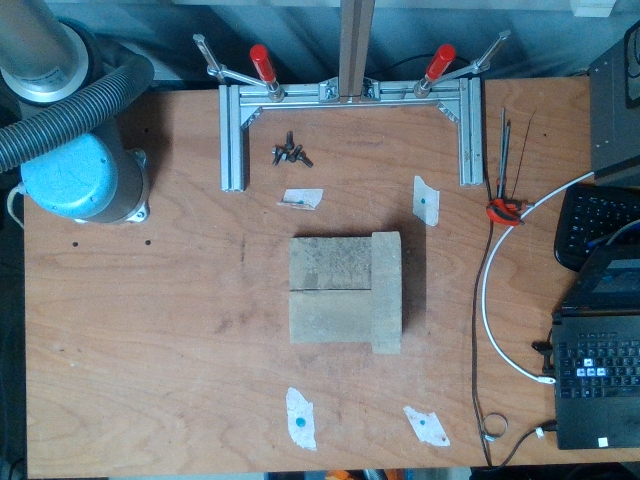brick-side: (372, 233, 402, 354)
